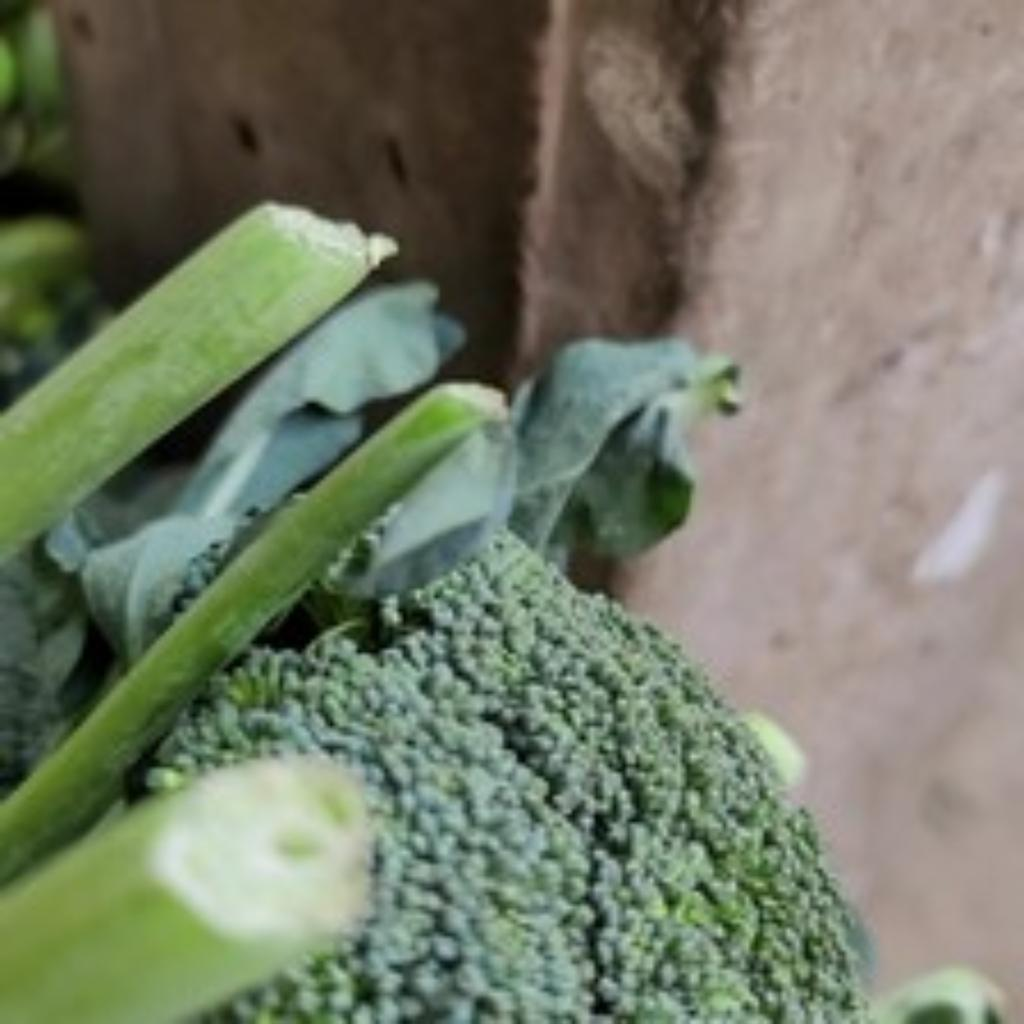Broccoli: (156, 534, 866, 1024), (156, 534, 866, 1024)
